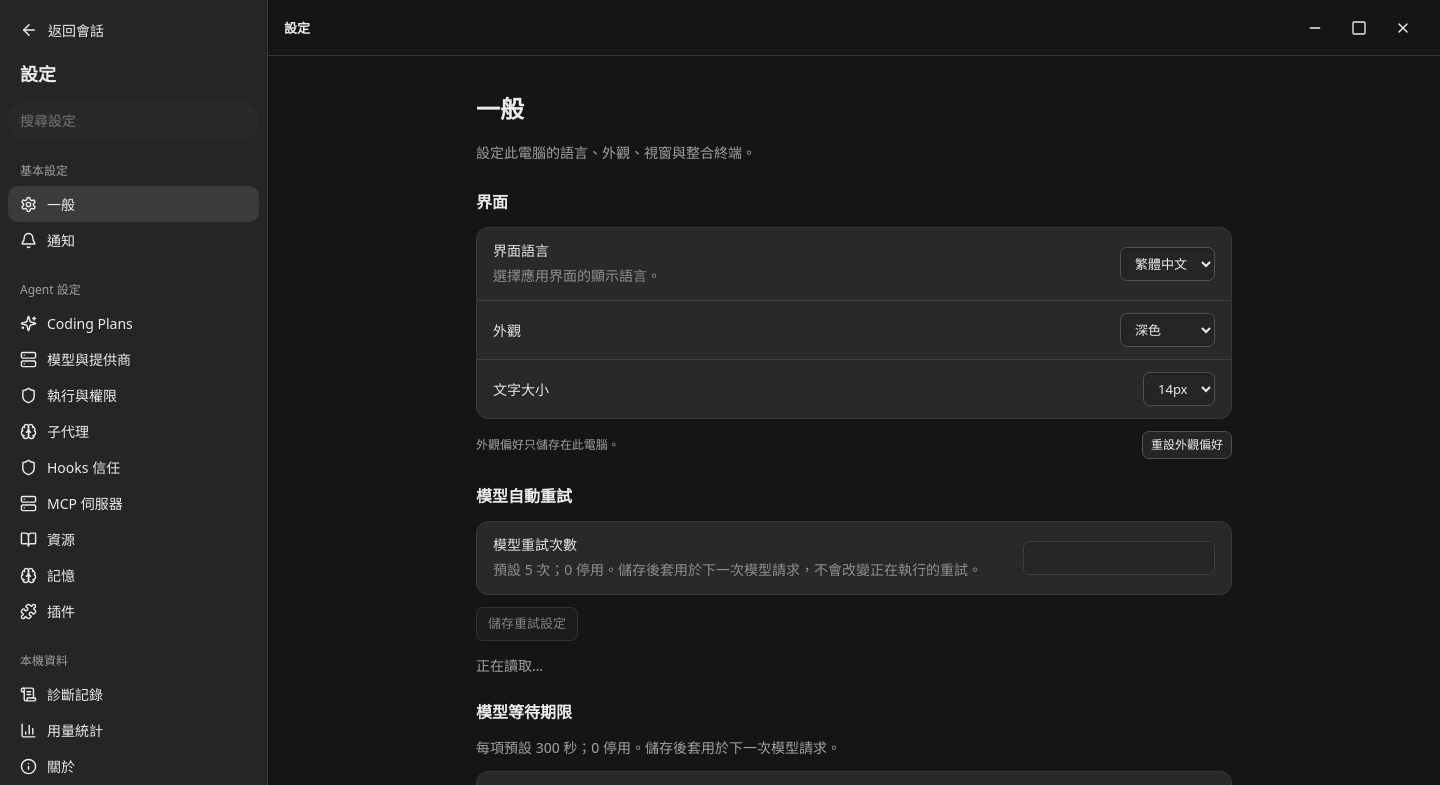
Test: keeps Agent Shell available in execution settings when it is independently advertised
Click the button "執行與權限".
click(134, 395)  # box [8,377,259,413]
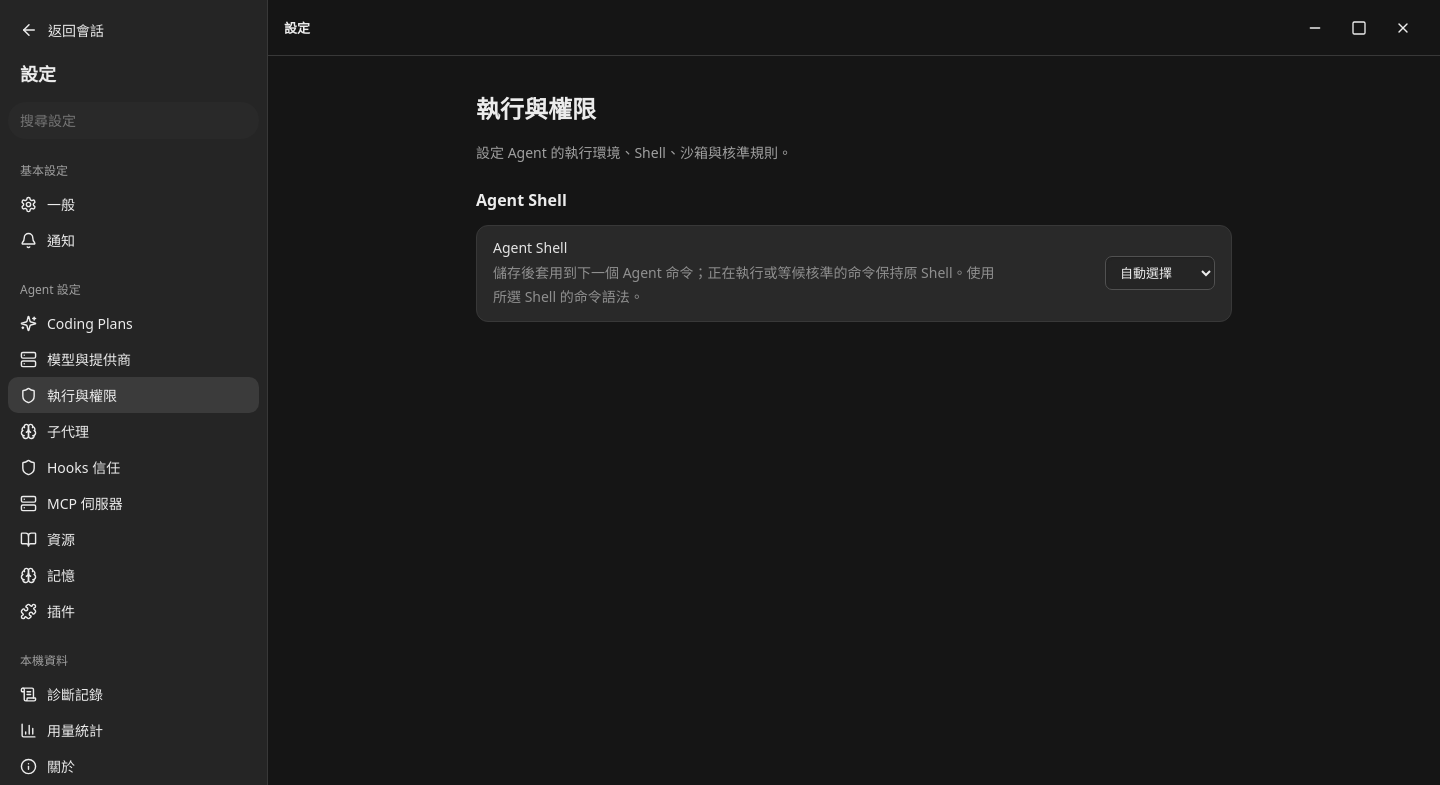
expect the dropdown named "Agent Shell" is shown: met, box [1105,256,1215,290]
